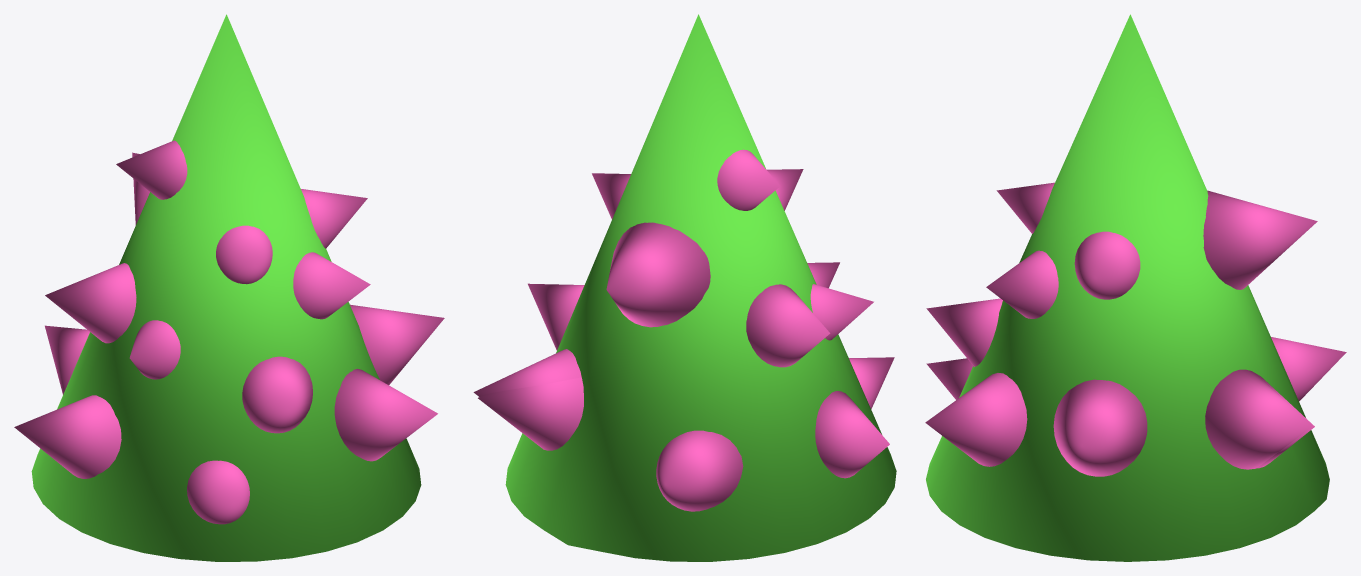
The model's file is single_thorn.fbx.
The picture shows the model from 3 angles, left to right: view 1: azimuth 30°, elevation 25°; view 2: azimuth 150°, elevation 25°; view 3: azimuth 270°, elevation 25°; orthographic projection.
Visible parts, largest first — view 1: Cone, Cone.011, Cone.003, Cone.005, Cone.002, Cone.008, Cone.016, Cone.012, Cone.006, Cone.017, Cone.007, Cone.009 (+1 smaller); view 2: Cone, Cone.001, Cone.004, Cone.014, Cone.002, Cone.003, Cone.017, Cone.010, Cone.008, Cone.007, Cone.016, Cone.009 (+2 smaller); view 3: Cone, Cone.008, Cone.010, Cone.001, Cone.011, Cone.009, Cone.012, Cone.005, Cone.004, Cone.006, Cone.016.
Part boxes in pixels (x1,y1,x2,y2): Cone: (31, 14, 421, 561); Cone.011: (334, 368, 437, 461); Cone.003: (14, 395, 121, 478); Cone.005: (242, 356, 312, 433); Cone.002: (45, 263, 136, 343); Cone.008: (350, 304, 444, 384); Cone.016: (187, 460, 249, 524); Cone.012: (293, 252, 370, 319); Cone.006: (216, 225, 272, 284); Cone.017: (116, 140, 187, 199); Cone.007: (129, 320, 180, 379); Cone.009: (301, 189, 367, 248); Cone: (505, 14, 896, 561); Cone.001: (606, 222, 710, 327); Cone.004: (656, 430, 743, 511); Cone.014: (478, 377, 583, 450); Cone.002: (746, 284, 830, 367); Cone.003: (815, 391, 889, 478); Cone.017: (717, 149, 779, 210); Cone.010: (473, 349, 581, 396); Cone.008: (528, 283, 584, 350); Cone.007: (810, 284, 873, 340); Cone.016: (849, 357, 894, 409); Cone.009: (592, 173, 630, 219); Cone: (926, 14, 1329, 561); Cone.008: (1053, 379, 1147, 476); Cone.010: (1205, 369, 1312, 469); Cone.001: (1203, 190, 1317, 289); Cone.011: (925, 373, 1027, 466); Cone.009: (1074, 231, 1140, 299); Cone.012: (986, 250, 1058, 318); Cone.005: (926, 298, 1002, 366); Cone.004: (1271, 337, 1346, 401); Cone.006: (996, 182, 1054, 233); Cone.016: (926, 358, 972, 399).
Bounding box in the file's own units: 177 × 203 × 162.
